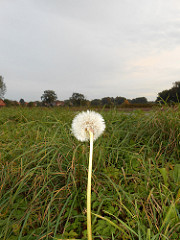dandelion white: (70, 108, 107, 143)
